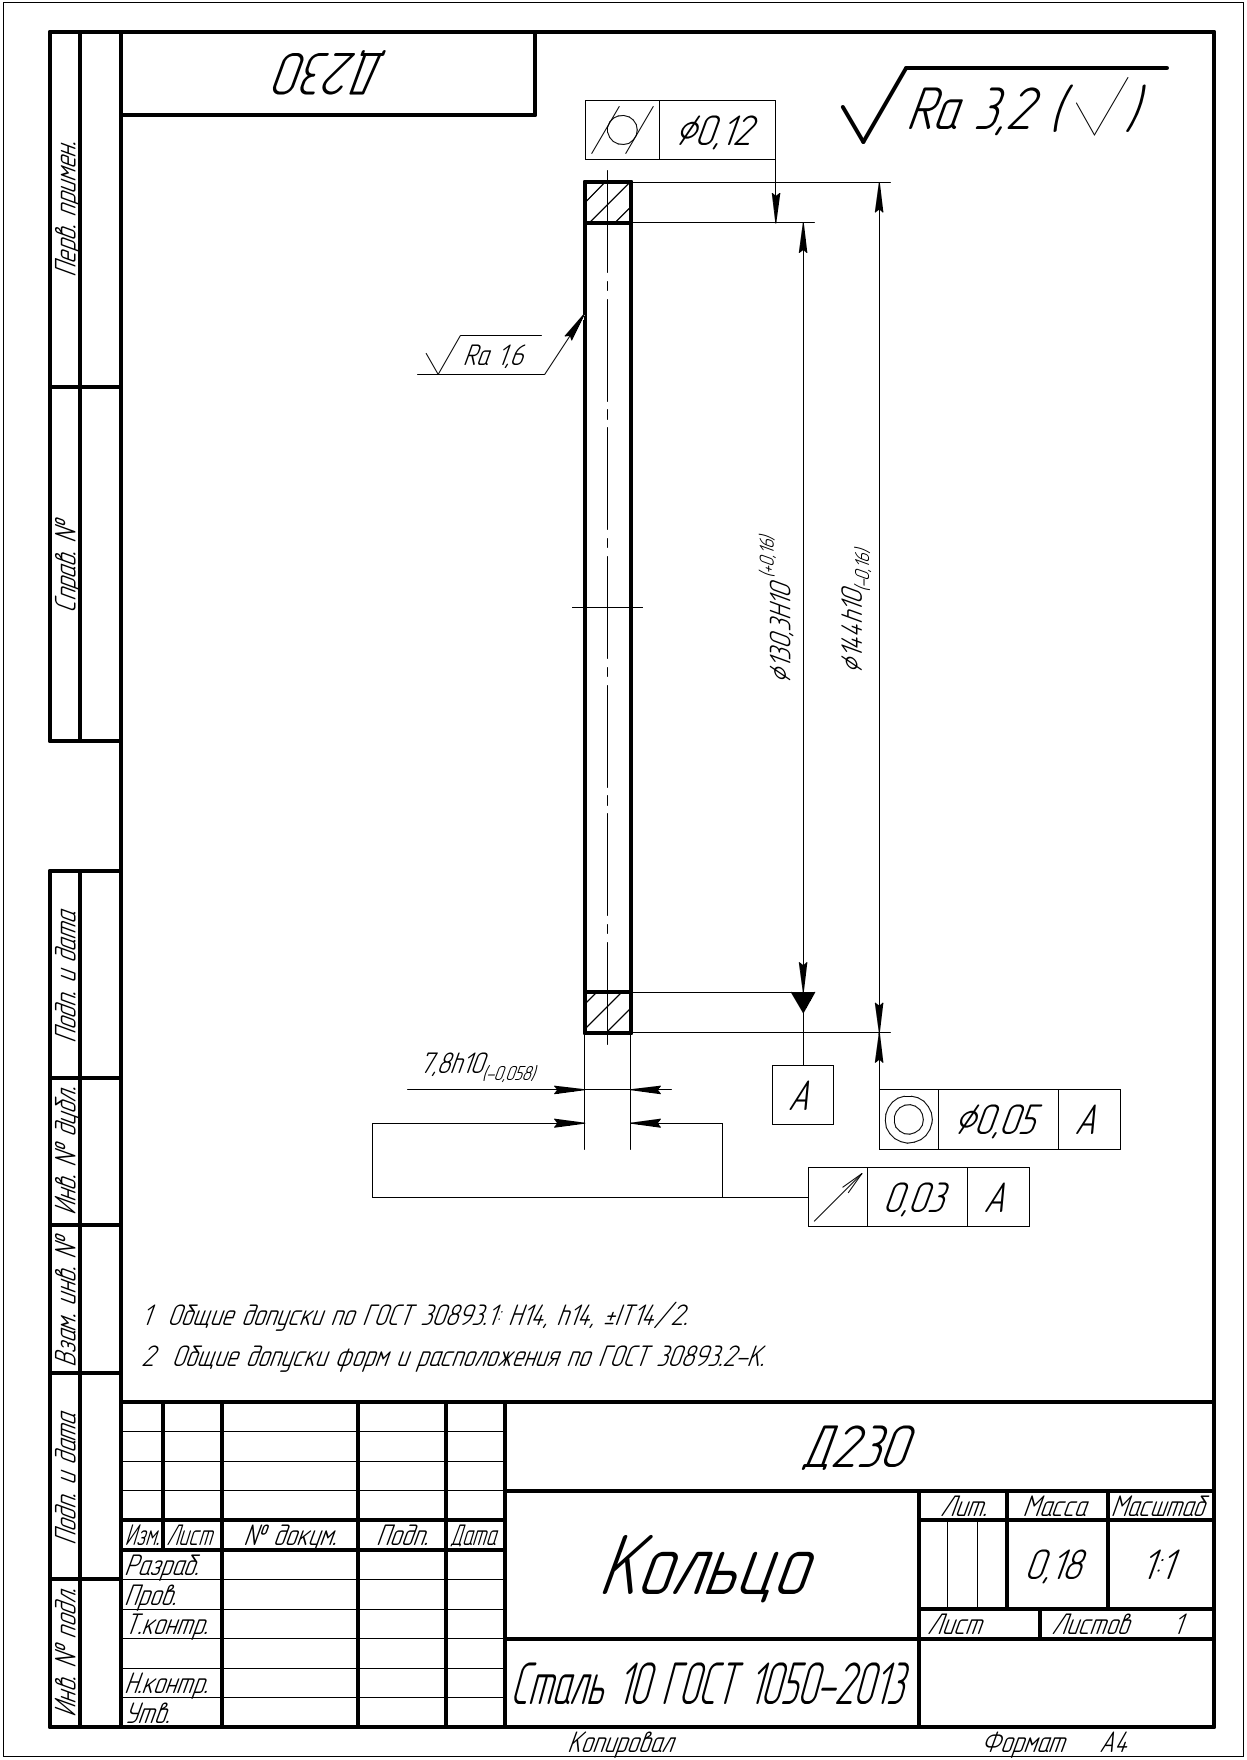Диаметральный размер: (750, 219, 821, 995), (835, 180, 893, 1038)
Допуск: (753, 530, 798, 620), (449, 1047, 538, 1085), (837, 543, 873, 624)
Линейный размер: (404, 1042, 677, 1100)
Общая шероховатость: (833, 55, 1180, 153)
Технические требования: (134, 1290, 773, 1378)
Шероховатость: (405, 302, 586, 386)
